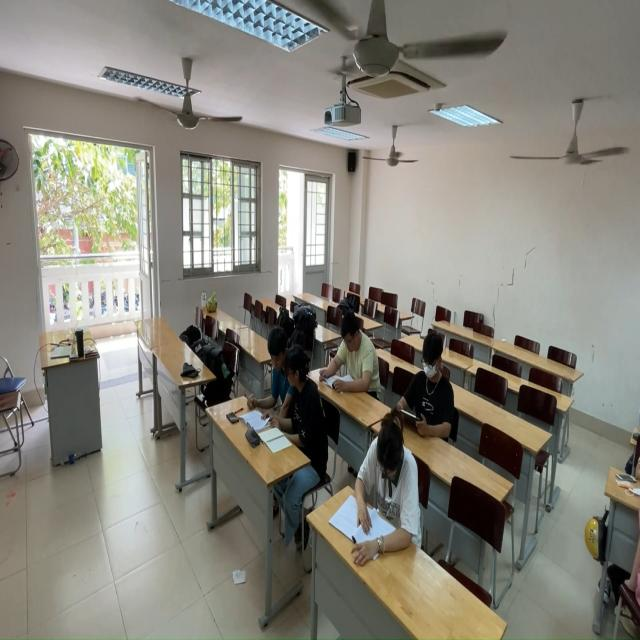read: (347, 420, 426, 562), (278, 347, 327, 478), (399, 334, 458, 437), (322, 312, 384, 396), (250, 322, 295, 419)
